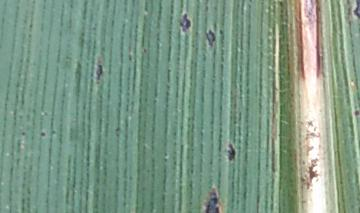dog: (127, 52, 134, 62), (50, 129, 57, 137), (277, 1, 284, 8), (114, 126, 121, 133)
tarspot: (203, 187, 220, 213), (178, 12, 191, 34), (225, 142, 236, 163), (205, 29, 216, 49), (352, 1, 360, 21), (95, 64, 103, 82), (39, 131, 46, 138), (353, 110, 360, 117), (218, 29, 223, 35), (20, 130, 25, 136)
